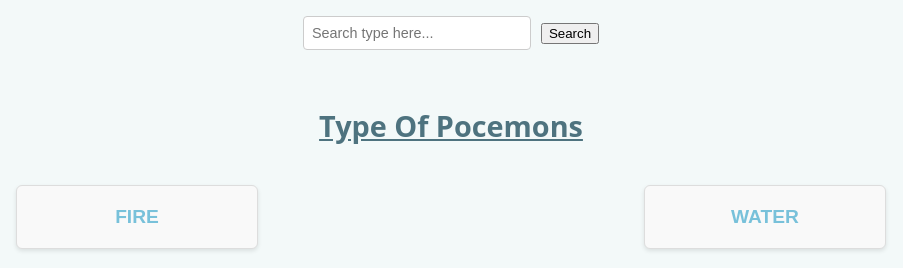
filters the CardList based on the search term
Type "Fire" into the field with placeholder "Search type here..." at (417, 33), box [303,16,531,50]
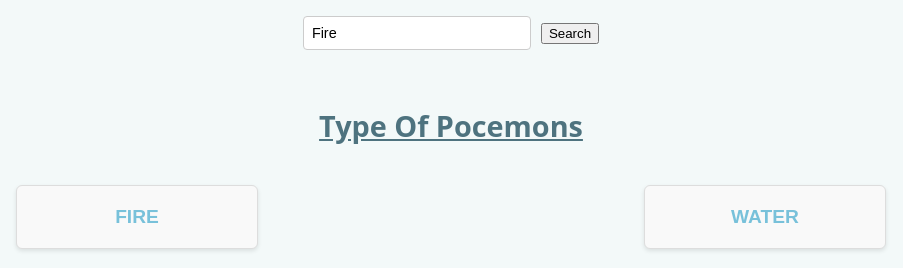
Click the button "Search" at (570, 34), box [541,23,599,44]
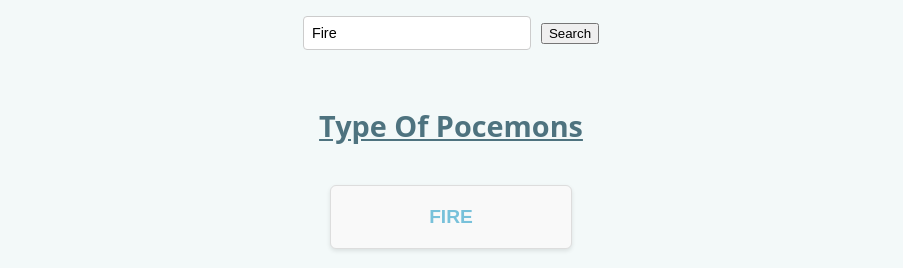
Expected: the text "Fire" is shown, [429,206,473,228]
Expected: the link "Water" is gone
